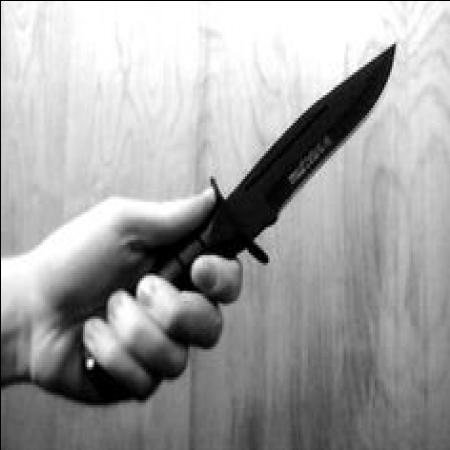long weapon: (154, 23, 404, 300)
